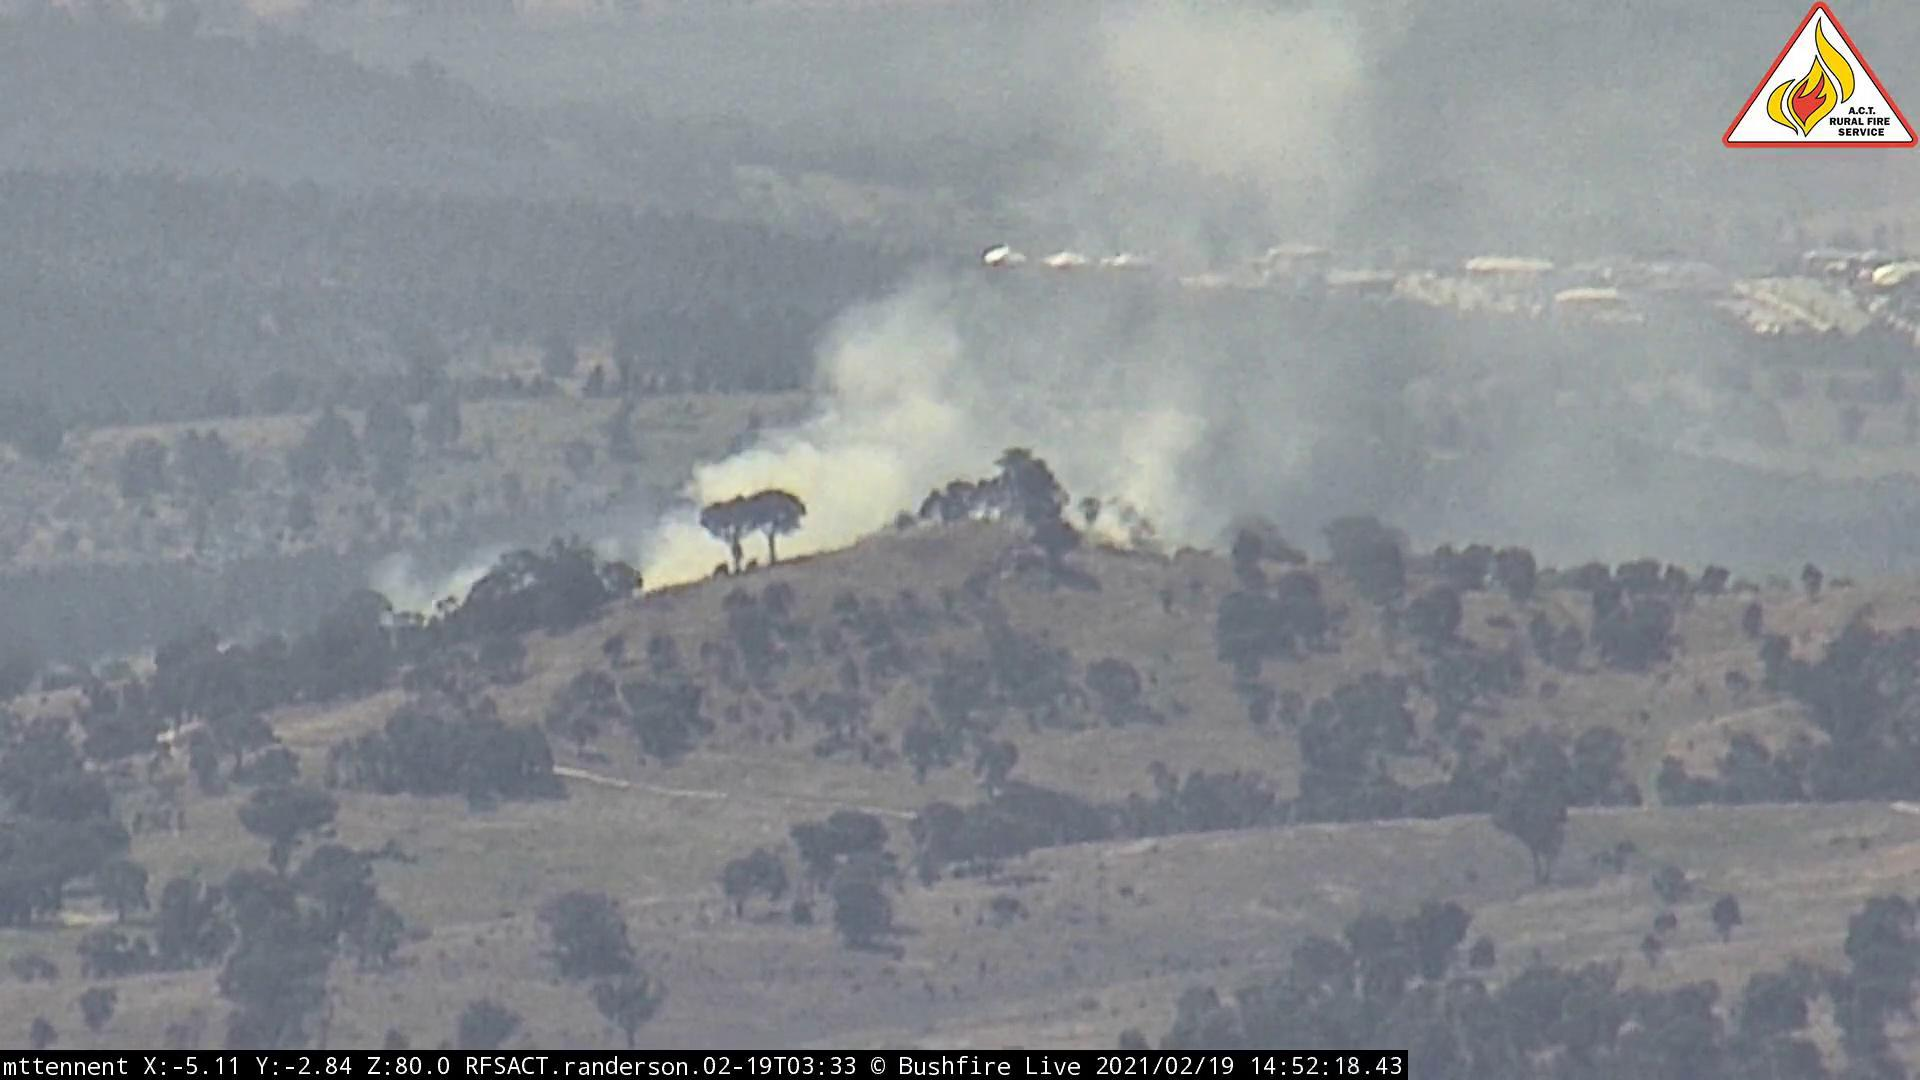Smoke: (397, 9, 1491, 649)
